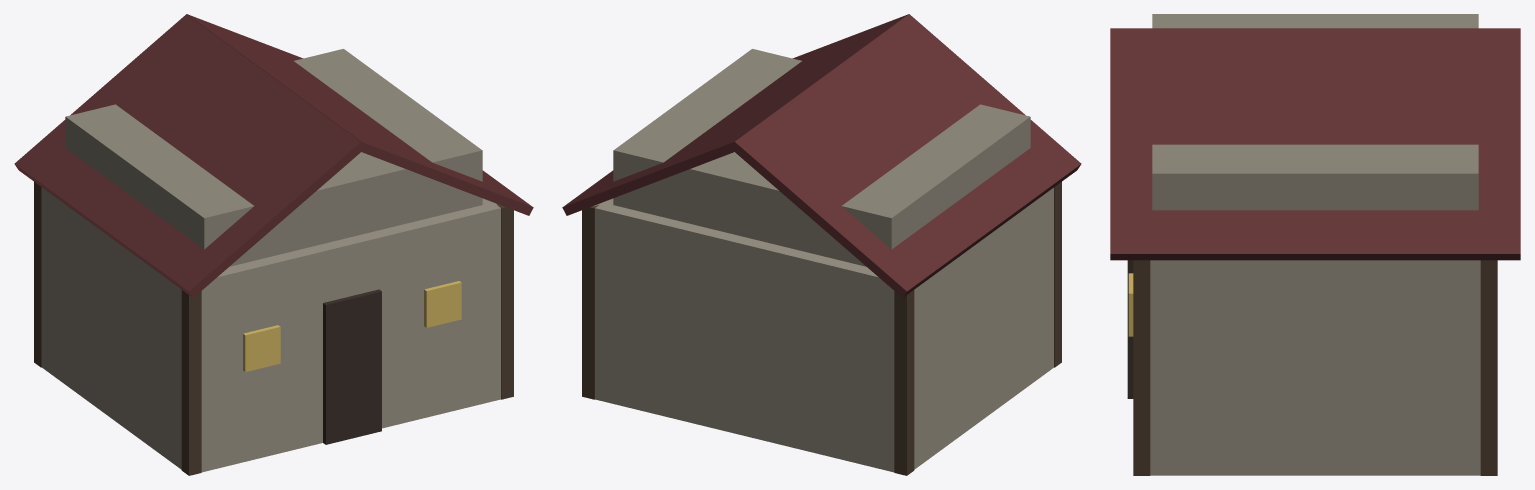
The model's file is house.glb.
3 renders of one model, left to right at view 1: azimuth 30°, elevation 25°; view 2: azimuth 150°, elevation 25°; view 3: azimuth 270°, elevation 25°, orthographic. The views are drawn at different scales.
Visible parts, largest first — view 1: house; view 2: house; view 3: house.
Boxes of the visible parts, x1,y1,x2,y2 form: house: [14, 14, 533, 475]; house: [562, 14, 1081, 475]; house: [1110, 14, 1520, 475].
Size of the model in its own units: 4.9 by 4.1 by 4.3.
1 material, 1 textured.
